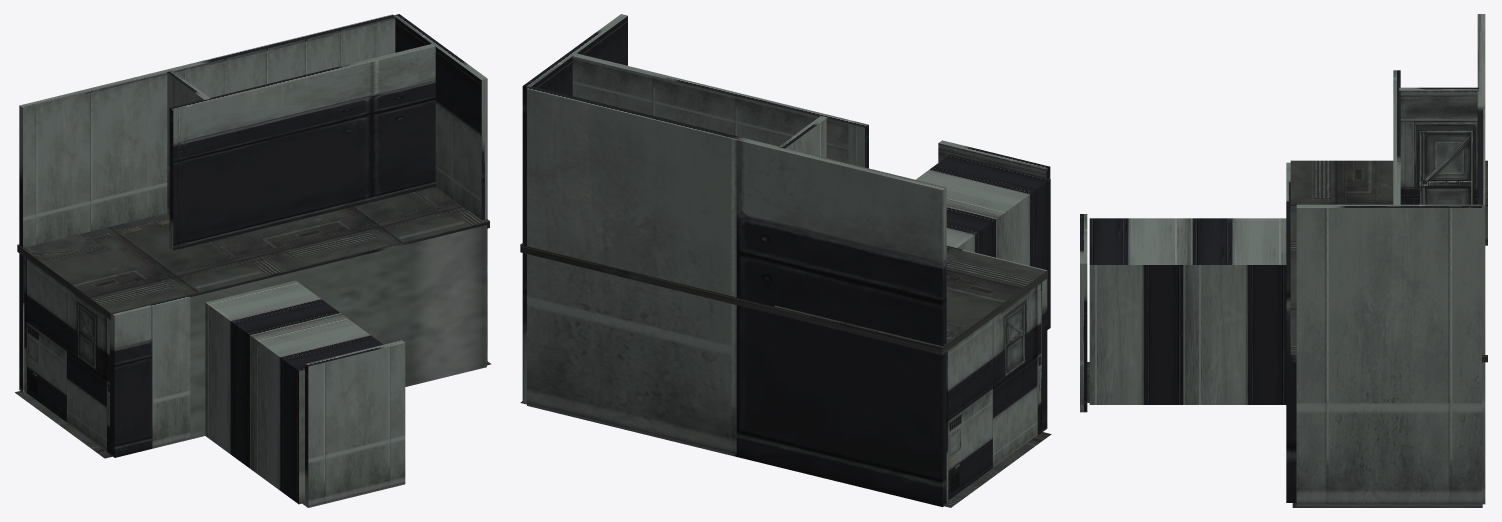
Rendered from Level_With_textured.fbx.
3 renders of one model, left to right at view 1: azimuth 30°, elevation 25°; view 2: azimuth 150°, elevation 25°; view 3: azimuth 270°, elevation 25°, orthographic. The views are drawn at different scales.
Visible parts, largest first — view 1: pCube17, Side_wall, pCube32, Cieling, pCube45, pCube31, pCube30, pCube34, pCube44, pPlane1; view 2: pCube32, pCube30, Side_wall, pCube17, Cieling, pCube34, pCube45, pCube31, pCube44, pPlane1; view 3: pCube34, pCube17, pCube44, Cieling, pCube32, pCube45, Side_wall, pPlane1.
Part boxes in pixels (x1=…): pCube17: x1=188, y1=223, x2=486, y2=504; Side_wall: x1=169, y1=44, x2=435, y2=250; pCube32: x1=19, y1=14, x2=395, y2=392; Cieling: x1=17, y1=186, x2=489, y2=320; pCube45: x1=305, y1=340, x2=405, y2=507; pCube31: x1=110, y1=296, x2=190, y2=457; pCube30: x1=24, y1=257, x2=109, y2=453; pCube34: x1=393, y1=14, x2=487, y2=363; pCube44: x1=167, y1=71, x2=210, y2=214; pPlane1: x1=15, y1=361, x2=491, y2=507; pCube32: x1=527, y1=86, x2=946, y2=507; pCube30: x1=946, y1=283, x2=1041, y2=501; Side_wall: x1=572, y1=53, x2=868, y2=168; pCube17: x1=916, y1=154, x2=1050, y2=329; Cieling: x1=520, y1=243, x2=1046, y2=355; pCube34: x1=522, y1=14, x2=627, y2=403; pCube45: x1=938, y1=140, x2=1050, y2=178; pCube31: x1=962, y1=249, x2=1047, y2=432; pCube44: x1=779, y1=116, x2=827, y2=157; pPlane1: x1=520, y1=401, x2=1051, y2=507; pCube34: x1=1296, y1=204, x2=1481, y2=506; pCube17: x1=1089, y1=201, x2=1296, y2=502; pCube44: x1=1399, y1=87, x2=1478, y2=204; Cieling: x1=1290, y1=160, x2=1487, y2=362; pCube32: x1=1477, y1=14, x2=1485, y2=504; pCube45: x1=1080, y1=214, x2=1087, y2=412; Side_wall: x1=1393, y1=70, x2=1400, y2=204; pPlane1: x1=1087, y1=362, x2=1482, y2=507.
Bounding box in the file's own units: 2.85 × 2 × 2.47.
